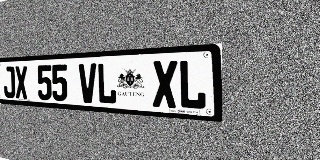5: (52, 64, 68, 102), (37, 65, 52, 101)
J: (3, 66, 15, 98)
L: (178, 59, 207, 110), (97, 62, 117, 105)
V: (79, 63, 97, 103)
X: (152, 60, 178, 108), (15, 66, 28, 99)
